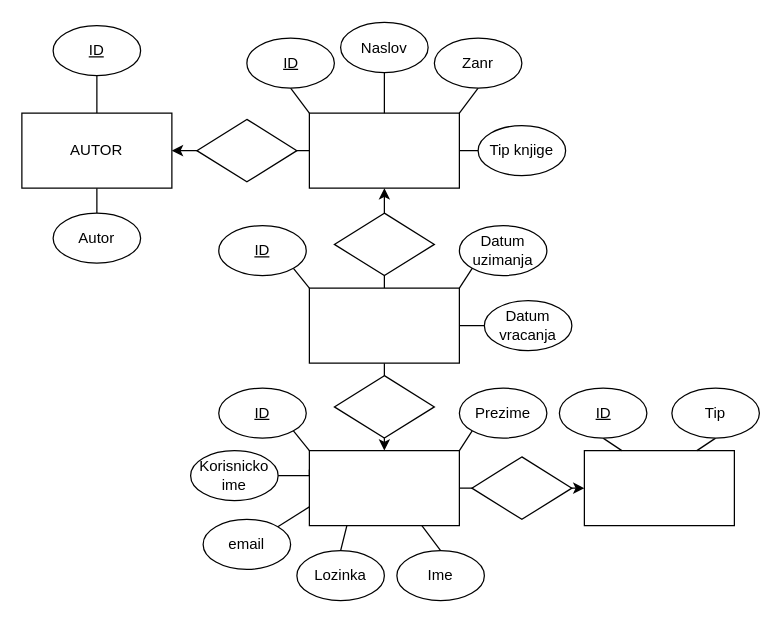
Some shapes in this 781 by 623 pixel diagram are drawn without their labels. The centre of each missing label's shape, as x and y in pixels:
KNJIGA: the point at 383,150
KORISNIK: the point at 383,487
REZERVACIJA: the point at 383,325
TIP_KORISNIKA: the point at 658,487
